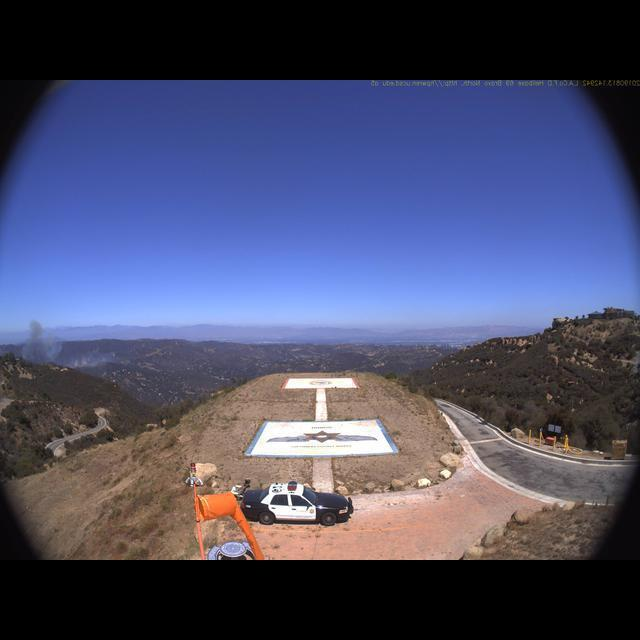Smoke: (17, 313, 139, 376)
